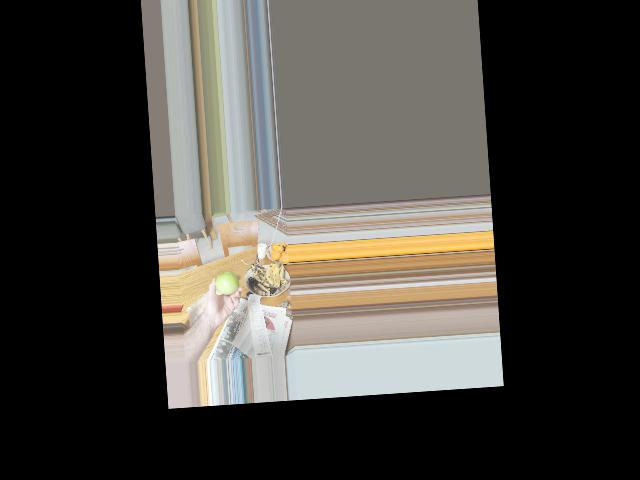apple: (212, 269, 239, 298)
